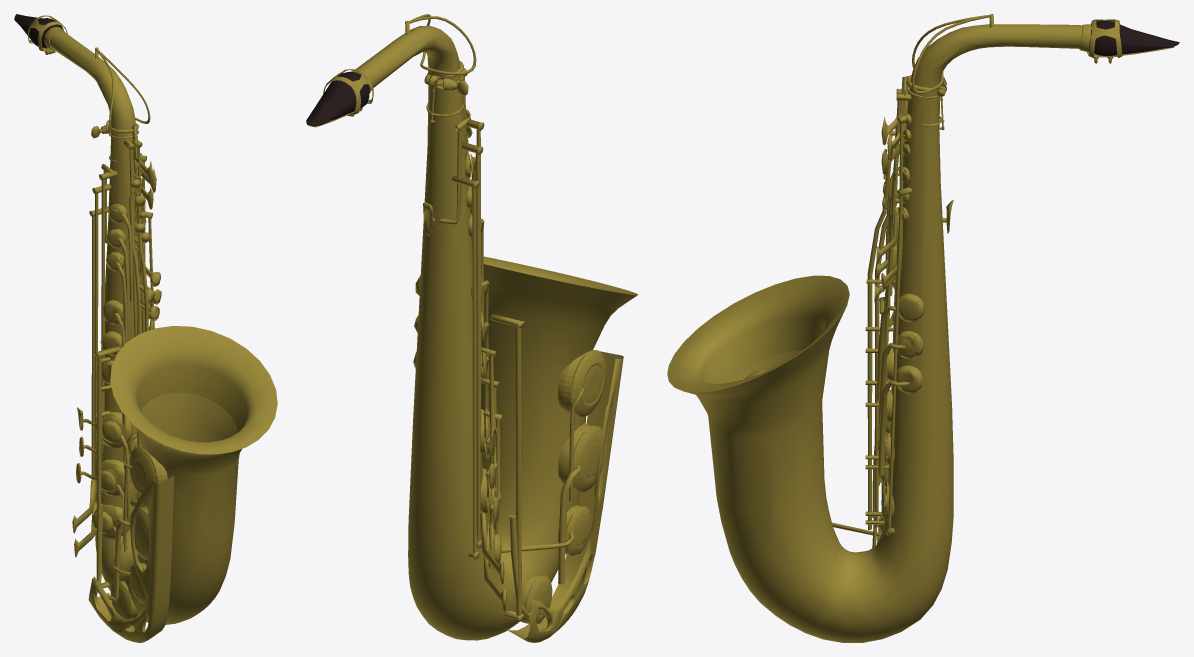
File: saxophone_alto.o.glb
3 renders of one model, left to right at view 1: azimuth 30°, elevation 25°; view 2: azimuth 150°, elevation 25°; view 3: azimuth 270°, elevation 25°, orthographic. The views are drawn at different scales.
Visible parts, largest first — view 1: Object_2, Object_3, Object_7, Object_9, Object_4, Object_5, Object_6, Object_8; view 2: Object_2, Object_3, Object_7, Object_9, Object_4, Object_5, Object_6, Object_8; view 3: Object_2, Object_3, Object_5, Object_6, Object_8.
Boxes of the visible parts, x1=… form: Object_2: x1=50, y1=30, x2=277, y2=624; Object_3: x1=72, y1=47, x2=161, y2=603; Object_7: x1=88, y1=476, x2=174, y2=642; Object_9: x1=97, y1=464, x2=156, y2=602; Object_4: x1=129, y1=447, x2=167, y2=495; Object_5: x1=14, y1=14, x2=63, y2=48; Object_6: x1=28, y1=15, x2=67, y2=54; Object_8: x1=95, y1=48, x2=150, y2=133; Object_2: x1=356, y1=25, x2=638, y2=640; Object_3: x1=405, y1=21, x2=543, y2=621; Object_7: x1=506, y1=351, x2=623, y2=642; Object_9: x1=494, y1=388, x2=584, y2=617; Object_4: x1=558, y1=350, x2=606, y2=416; Object_5: x1=306, y1=71, x2=369, y2=126; Object_6: x1=308, y1=69, x2=373, y2=127; Object_8: x1=409, y1=14, x2=476, y2=74; Object_2: x1=667, y1=24, x2=1081, y2=642; Object_3: x1=865, y1=14, x2=993, y2=535; Object_5: x1=1088, y1=21, x2=1179, y2=55; Object_6: x1=1078, y1=19, x2=1174, y2=63; Object_8: x1=912, y1=14, x2=989, y2=93.
Size of the model in its own units: 2.63 by 8.91 by 6.63.
